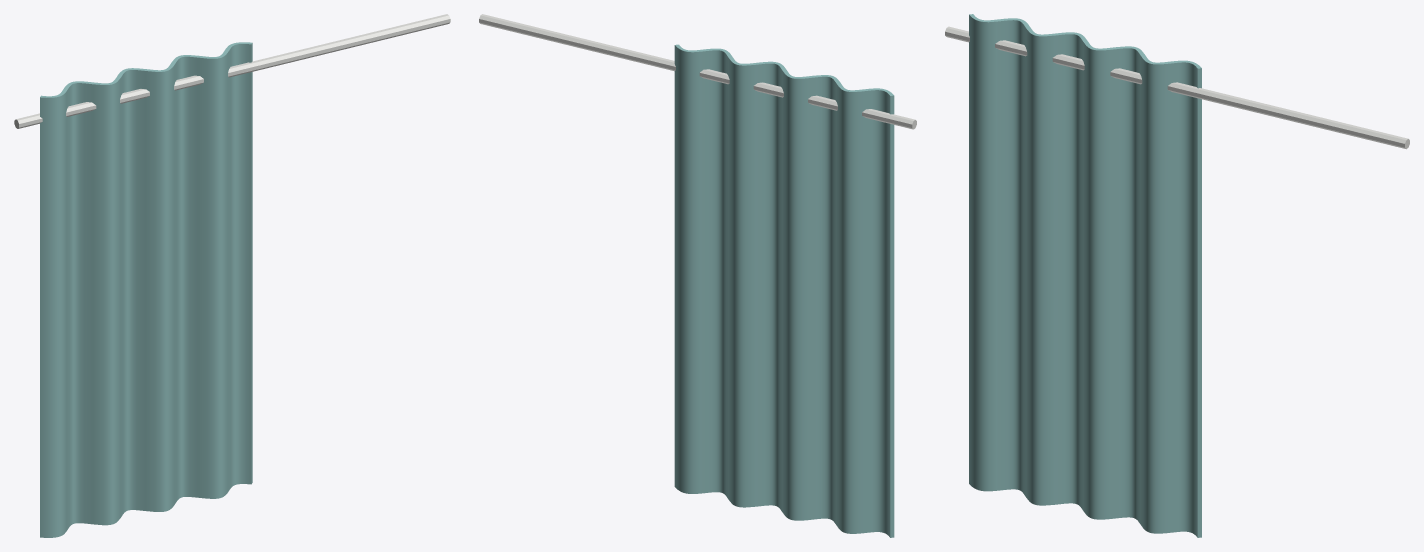
Rendered from Prop_Bathroom_Shower_Curtain.fbx.
The picture shows the model from 3 angles, left to right: view 1: azimuth 30°, elevation 25°; view 2: azimuth 150°, elevation 25°; view 3: azimuth 330°, elevation 25°; orthographic projection. The views are drawn at different scales.
Visible parts, largest first — view 1: object2.001, object1.001; view 2: object2.001, object1.001; view 3: object2.001, object1.001.
Boxes of the visible parts, box(x1,y1,x2,y2) form: object2.001: box(40, 42, 252, 537); object1.001: box(14, 14, 450, 128); object2.001: box(674, 44, 894, 537); object1.001: box(479, 14, 916, 129); object2.001: box(969, 14, 1201, 537); object1.001: box(945, 26, 1409, 149).
Bounding box in the file's own units: 200 × 195 × 10.
